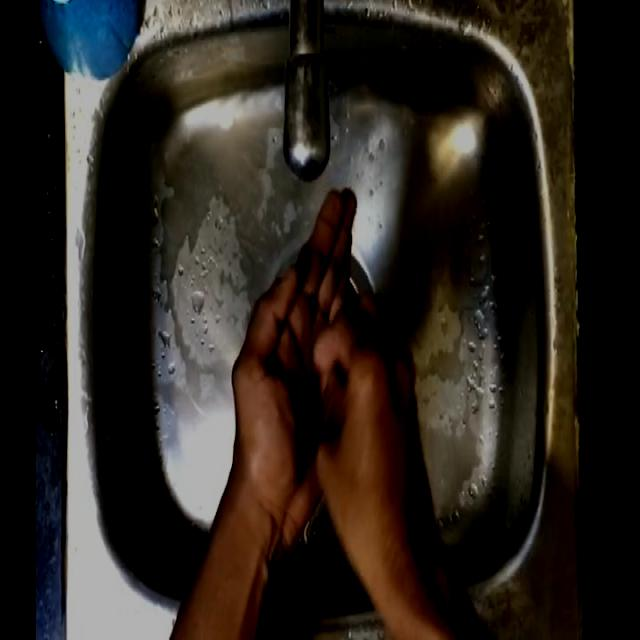step_6: (226, 172, 433, 551)
